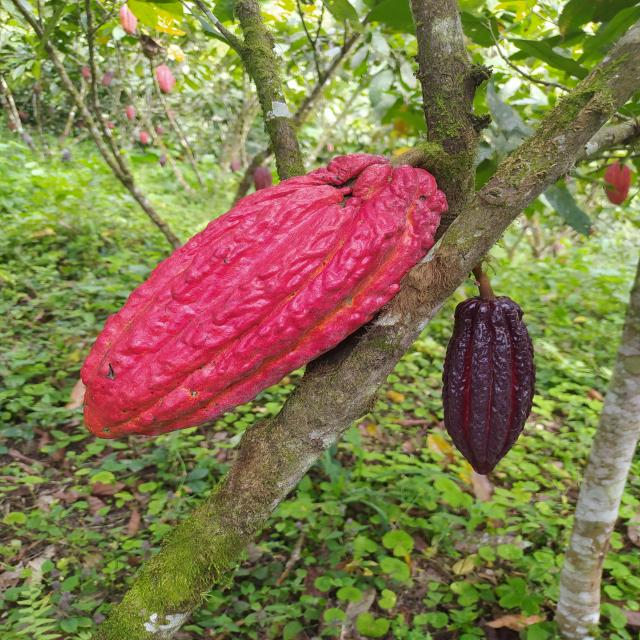Sana: (77, 152, 447, 439), (440, 296, 538, 475), (603, 162, 630, 203)
